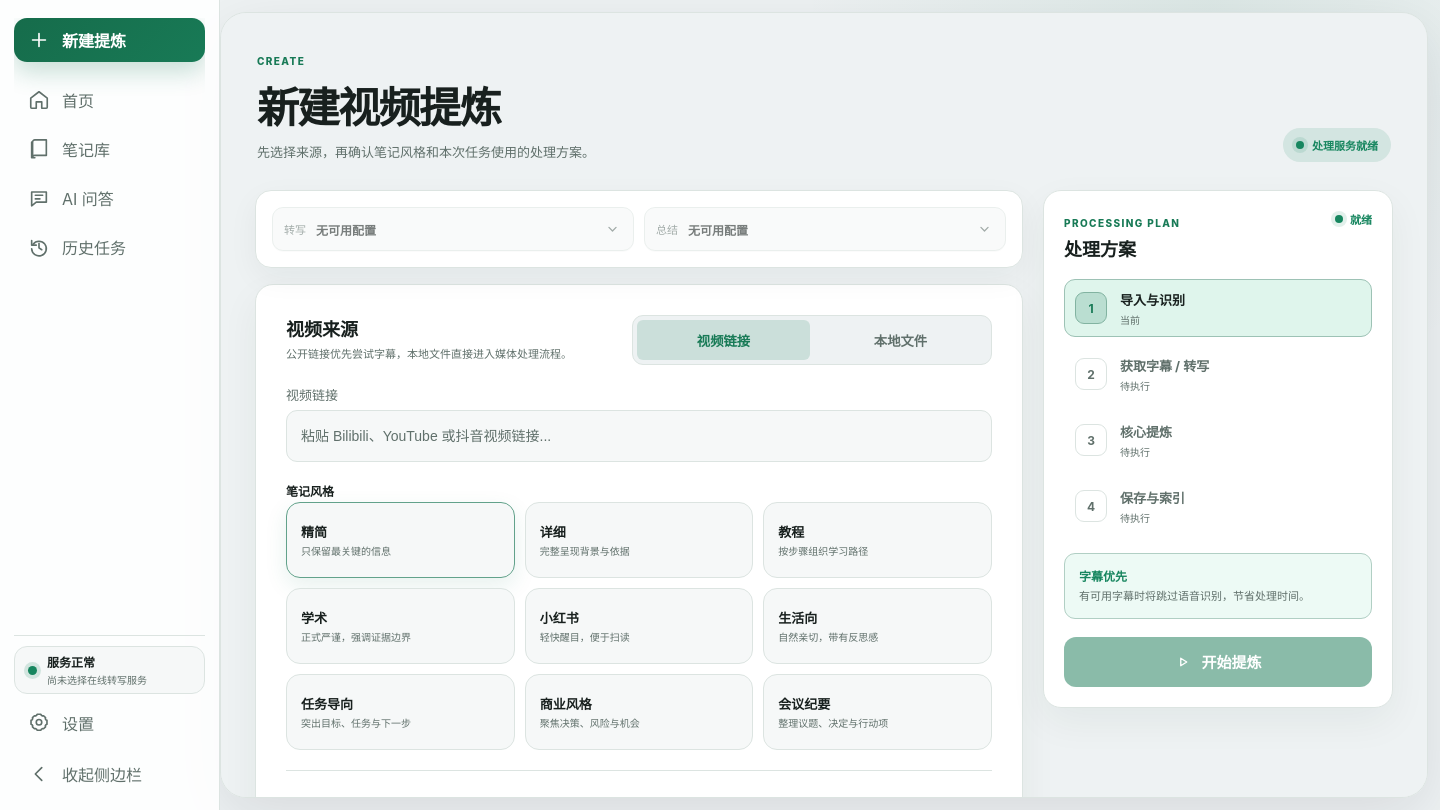
Scenario: workbench UI › keeps the history rail available inside the full-window workbench
Click the button with aria-label "笔记库": (110, 149) [14, 127, 205, 171]
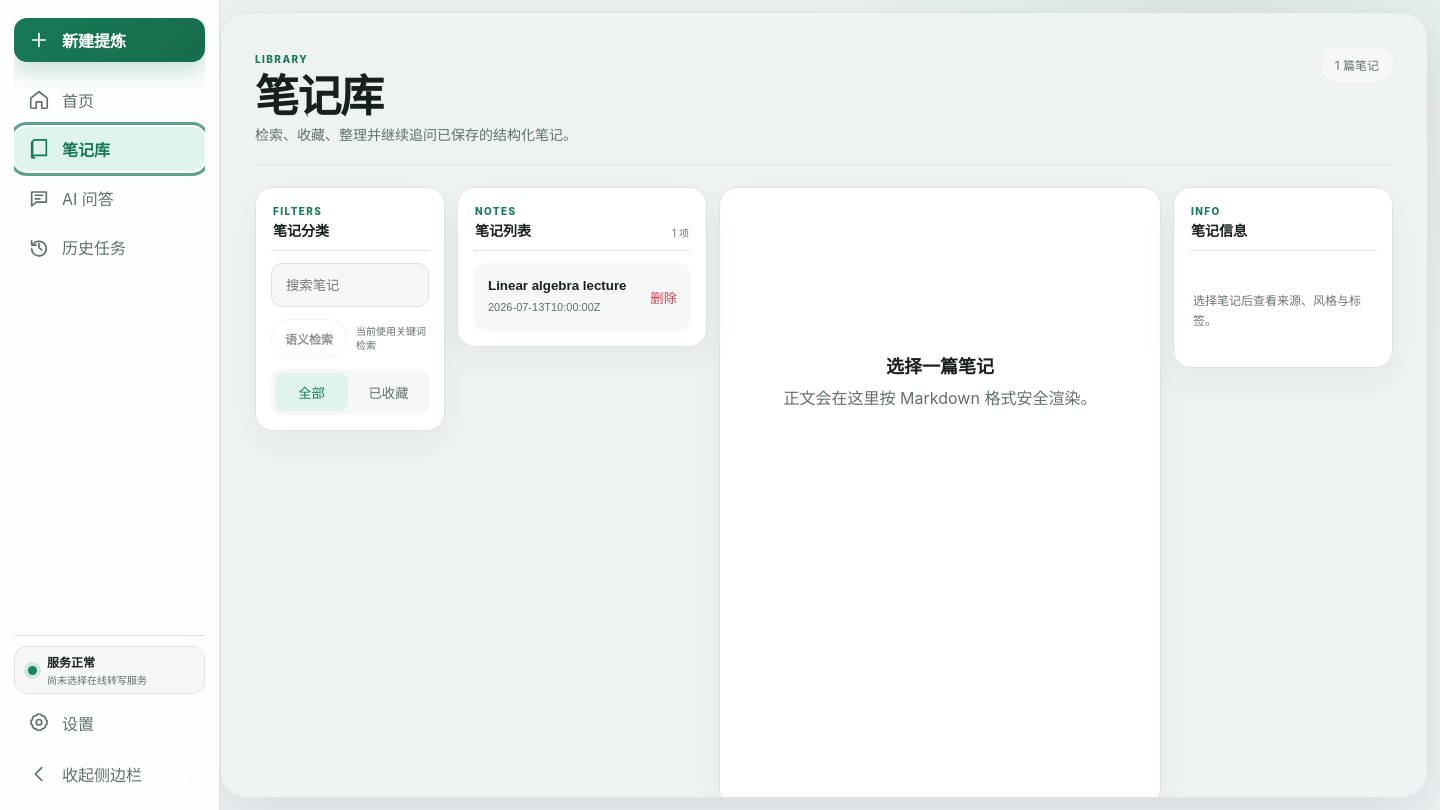
Check: the field labelled "搜索笔记" is shown, box [271, 263, 429, 307]
Check: the element with class "library-browser" is shown, box [457, 187, 707, 347]
